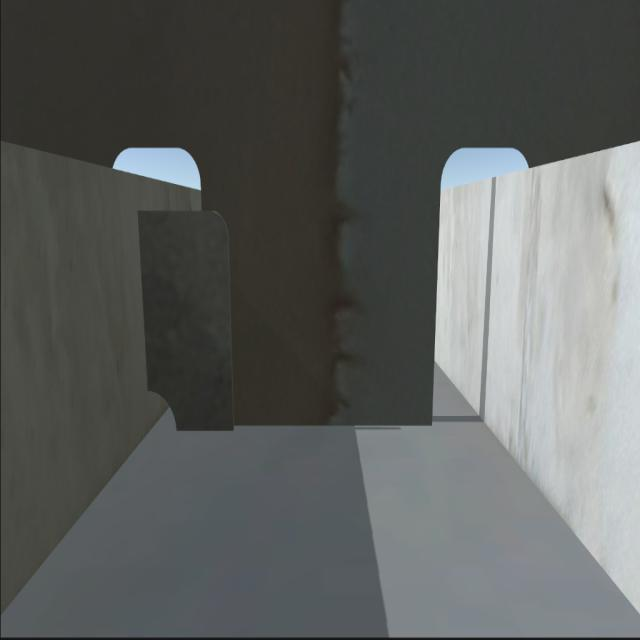fillet_hole: (142, 389, 178, 441)
fillet_yong_jeop_jang: (182, 427, 433, 432)
longi_yong_jeop_jang: (135, 216, 152, 387)
plate_CP05: (139, 208, 242, 431)
